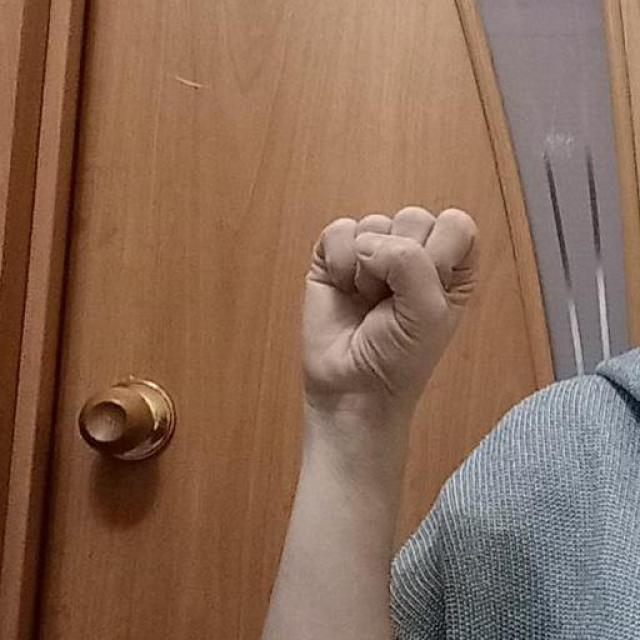hand: (297, 202, 478, 418)
